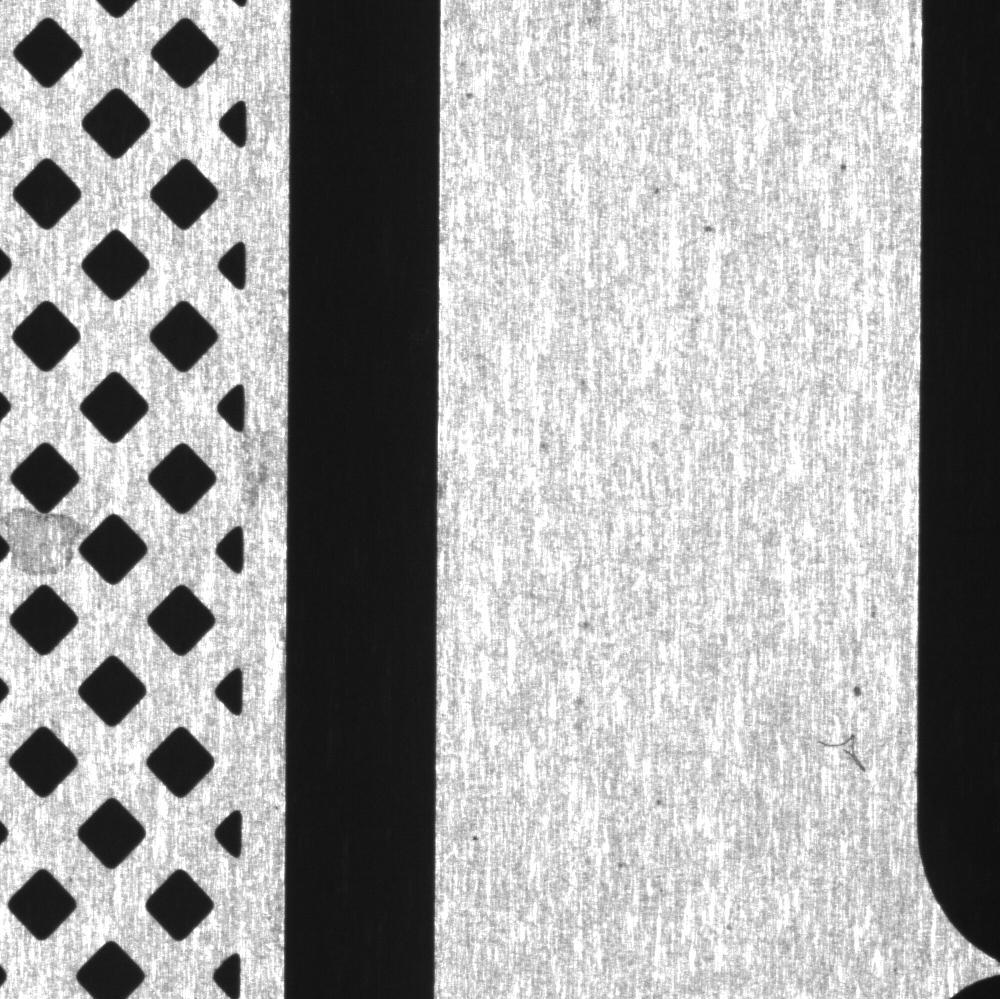Discolor: (4, 502, 90, 588)
Etching: (810, 714, 876, 776), (575, 609, 602, 641), (697, 211, 720, 247), (846, 670, 870, 704), (651, 171, 664, 207), (459, 80, 477, 105)
Pinhole: (833, 152, 854, 184), (534, 434, 553, 460), (646, 790, 668, 812), (465, 827, 486, 848)
